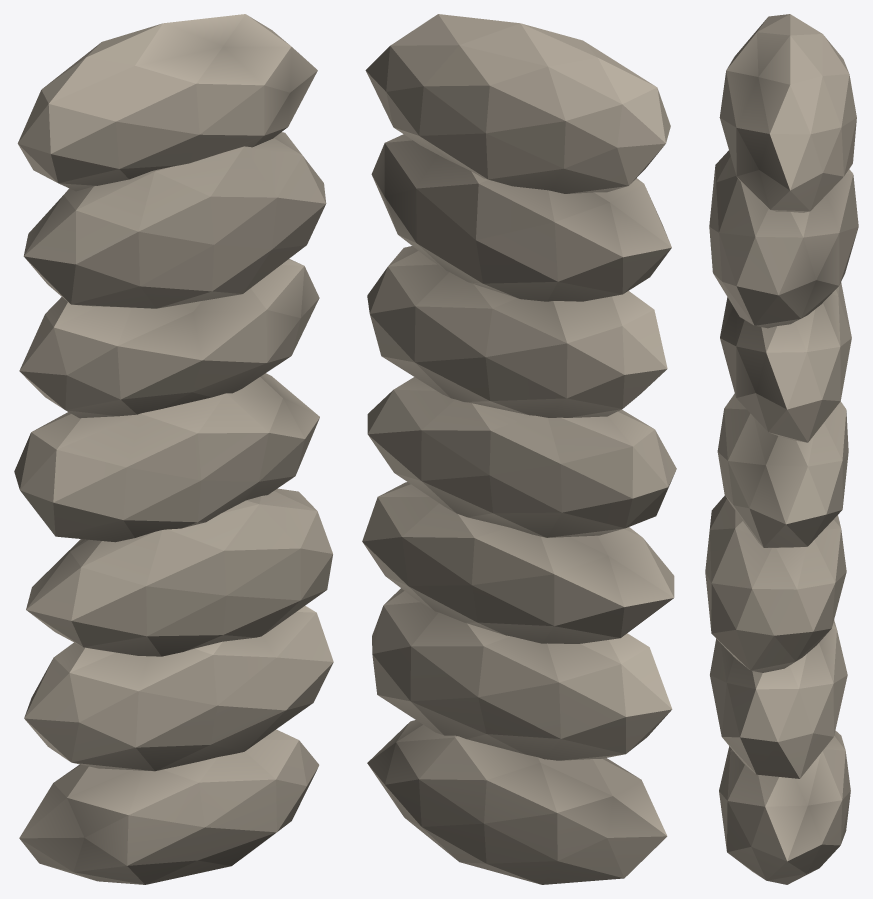
The model's file is earth-cliff.fa40b63c.glb.
The picture shows the model from 3 angles, left to right: view 1: azimuth 30°, elevation 25°; view 2: azimuth 150°, elevation 25°; view 3: azimuth 270°, elevation 25°; orthographic projection. The views are drawn at different scales.
Visible parts, largest first — view 1: body; view 2: body; view 3: body.
Boxes of the visible parts, x1,y1,x2,y2 form: body: (14, 14, 333, 884); body: (362, 14, 676, 884); body: (705, 14, 858, 884).
Bounding box in the file's own units: 0.7799 × 2.09 × 0.357.
